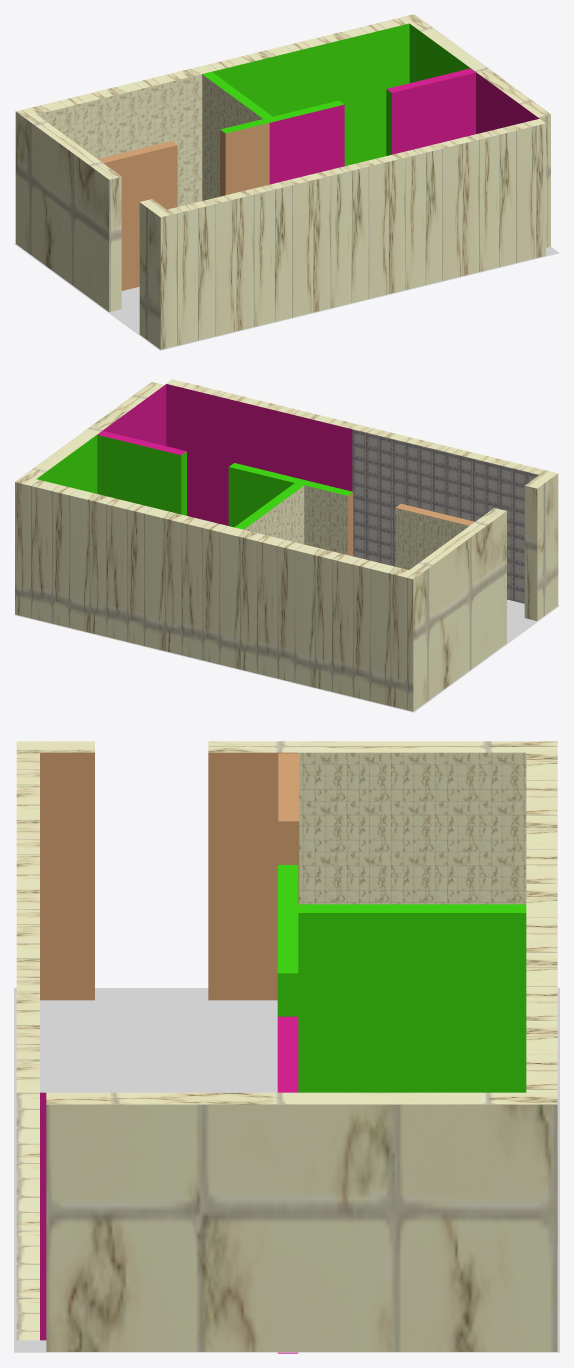
Rendered from crack_house.glb.
3 renders of one model, top to bottom at view 1: azimuth 30°, elevation 25°; view 2: azimuth 150°, elevation 25°; view 3: azimuth 270°, elevation 25°, orthographic. The views are drawn at different scales.
Parts seen in each view (by area): view 1: outside_walls, middle_w1, room_w1, toilet_w_front, toilet_w_side, floor; view 2: outside_walls, middle_w1, room_w1, toilet_w_front, toilet_w_side, floor; view 3: outside_walls, toilet_w_side, floor, middle_w1, toilet_w_front, room_w1.
Part boxes in pixels (x1=…): outside_walls: x1=15, y1=14, x2=550, y2=349; middle_w1: x1=220, y1=100, x2=344, y2=196; room_w1: x1=386, y1=68, x2=475, y2=155; toilet_w_front: x1=98, y1=141, x2=177, y2=290; toilet_w_side: x1=202, y1=72, x2=276, y2=200; floor: x1=14, y1=243, x2=559, y2=350; outside_walls: x1=15, y1=379, x2=558, y2=711; middle_w1: x1=228, y1=463, x2=353, y2=556; room_w1: x1=97, y1=431, x2=186, y2=515; toilet_w_front: x1=395, y1=503, x2=474, y2=569; toilet_w_side: x1=234, y1=480, x2=304, y2=544; floor: x1=14, y1=599, x2=559, y2=712; outside_walls: x1=16, y1=741, x2=557, y2=1351; toilet_w_side: x1=283, y1=904, x2=526, y2=1092; floor: x1=14, y1=988, x2=559, y2=1352; middle_w1: x1=277, y1=865, x2=298, y2=1016; toilet_w_front: x1=278, y1=753, x2=299, y2=904; room_w1: x1=277, y1=1016, x2=298, y2=1353.
Size of the model in its own units: 10.42 by 3.38 by 6.59.
Materials: 8 (5 with a texture image).
